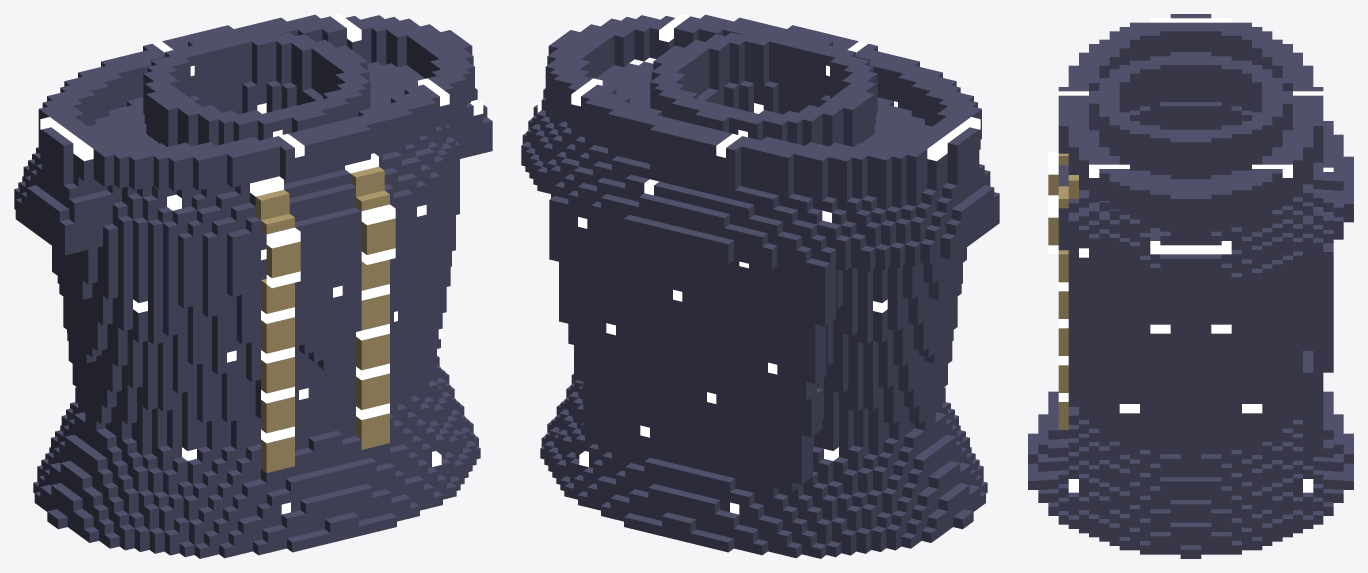
Rendered from mystic_rare_chest.glb.
3 renders of one model, left to right at view 1: azimuth 30°, elevation 25°; view 2: azimuth 150°, elevation 25°; view 3: azimuth 270°, elevation 25°, orthographic. The views are drawn at different scales.
Visible parts, largest first — view 1: mystic_rare_chest; view 2: mystic_rare_chest; view 3: mystic_rare_chest.
Part boxes in pixels (x1,y1,x2,y2): mystic_rare_chest: [14, 14, 492, 558]; mystic_rare_chest: [521, 14, 999, 558]; mystic_rare_chest: [1028, 14, 1353, 558].
Bounding box in the file's own units: 0.54 × 0.48 × 0.384.
